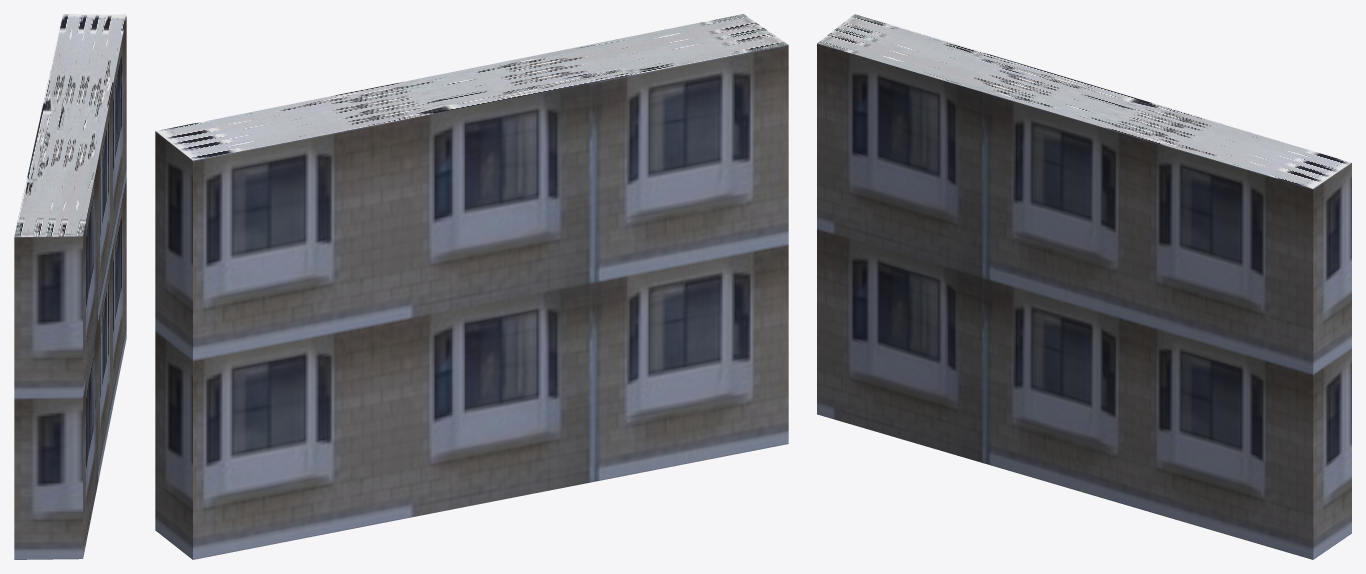
Rendered from ResTex__3324.fbx.
3 renders of one model, left to right at view 1: azimuth 30°, elevation 25°; view 2: azimuth 150°, elevation 25°; view 3: azimuth 270°, elevation 25°, orthographic. The views are drawn at different scales.
Visible parts, largest first — view 1: CityEngineMaterial_3_m, CityEngineMaterial_4_m; view 2: CityEngineMaterial_3_m, CityEngineMaterial_4_m; view 3: CityEngineMaterial_3_m, CityEngineMaterial_4_m.
Part boxes in pixels (x1,y1,x2,y2): CityEngineMaterial_3_m: [14, 16, 126, 559]; CityEngineMaterial_4_m: [14, 14, 126, 236]; CityEngineMaterial_3_m: [155, 44, 788, 559]; CityEngineMaterial_4_m: [156, 14, 787, 160]; CityEngineMaterial_3_m: [817, 43, 1351, 559]; CityEngineMaterial_4_m: [817, 14, 1351, 188].
Bounding box in the file's own units: 6.07 × 6 × 7.84.
2 materials, 2 textured.
